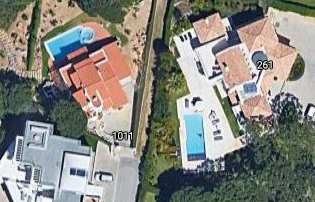pool: (183, 113, 204, 157), (48, 31, 91, 51)
